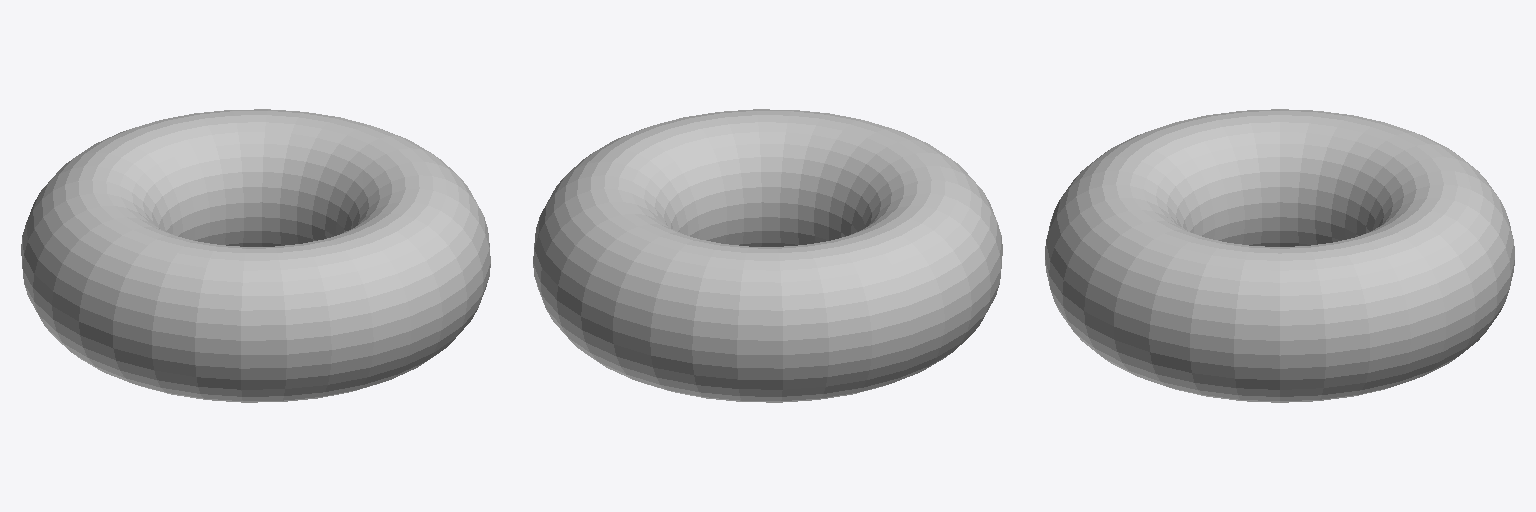
The model's file is torus32_smoothed_60.obj.
The picture shows the model from 3 angles: view 1: azimuth 30°, elevation 25°; view 2: azimuth 150°, elevation 25°; view 3: azimuth 270°, elevation 25°; orthographic projection.
Size of the model in its own units: 10.13 by 3.4 by 10.13.